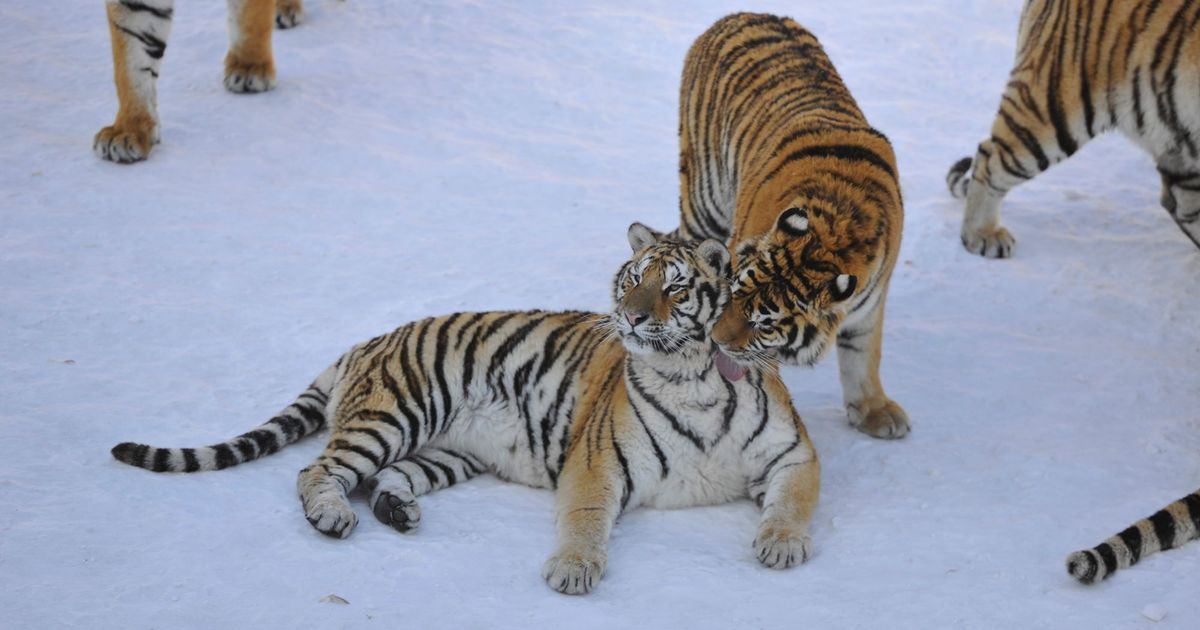Tiger: (108, 222, 859, 590), (672, 1, 920, 446)
